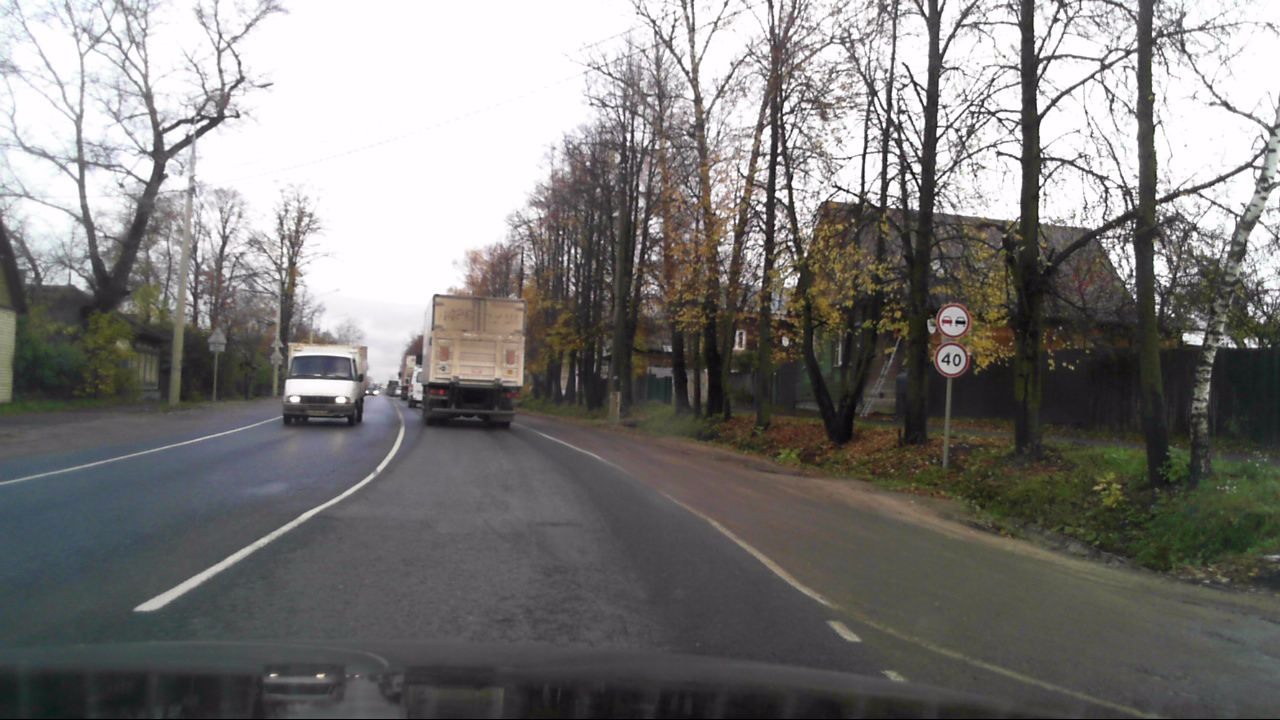speed_warning_40: (933, 342, 968, 378)
